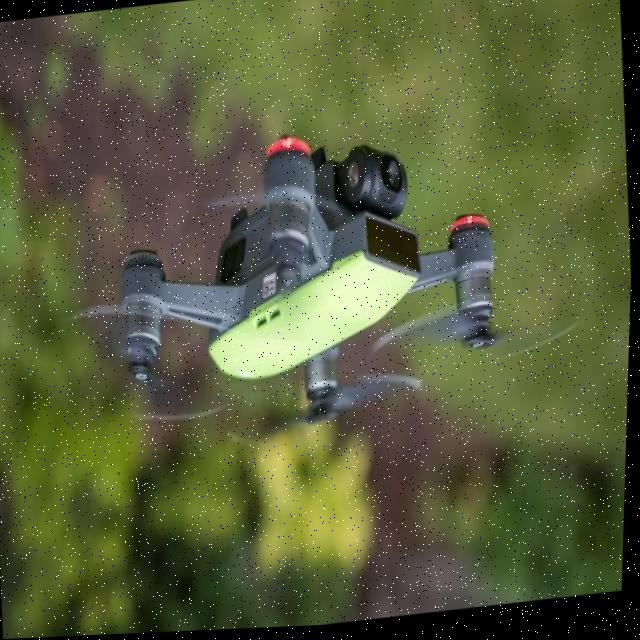drones: (32, 55, 610, 460)
